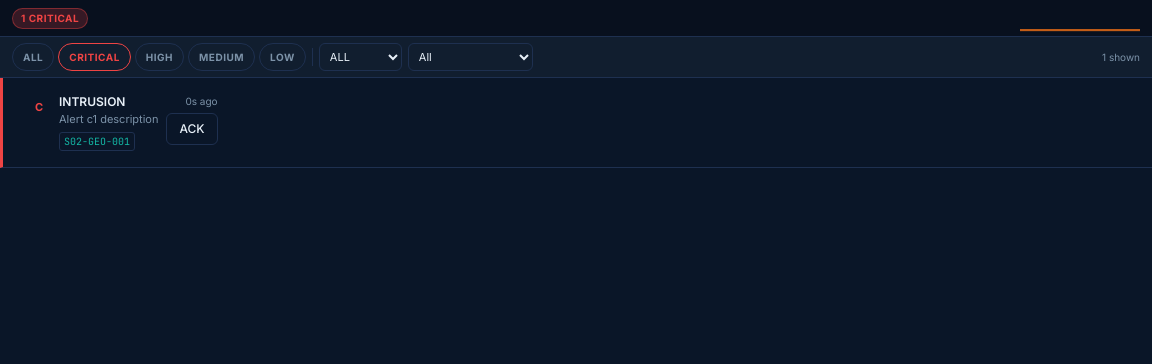
Test: AlertPanel › clicking ALL filter shows all alerts
Click the button "ALL" at [33, 57], box [12, 43, 54, 71]
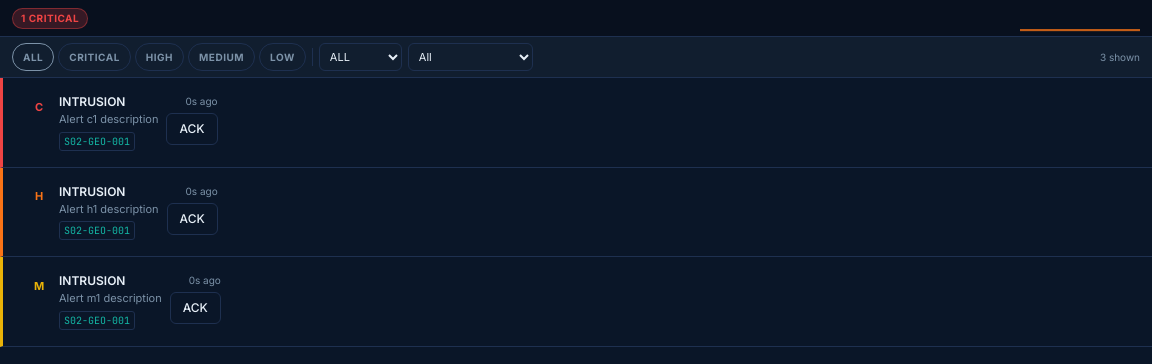
Now the text "3 shown" is shown, box [1100, 50, 1140, 64]
